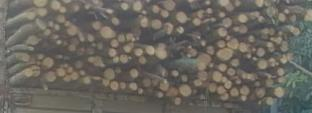medium: (197, 54, 210, 69), (218, 48, 231, 60), (163, 0, 176, 12), (154, 48, 166, 59), (165, 22, 174, 36), (151, 19, 162, 30), (100, 27, 111, 38), (178, 85, 189, 96), (128, 68, 139, 79), (226, 39, 237, 50), (42, 57, 52, 69), (176, 12, 186, 23), (103, 69, 113, 79), (44, 71, 54, 81), (131, 1, 141, 11), (281, 41, 289, 53), (34, 0, 47, 7), (221, 19, 231, 28), (66, 26, 76, 35), (49, 0, 58, 10), (35, 19, 44, 29), (240, 86, 249, 96), (166, 88, 176, 97), (27, 36, 37, 45), (256, 48, 265, 58), (207, 82, 215, 93), (257, 60, 266, 69), (229, 88, 238, 97), (217, 63, 226, 72), (198, 72, 207, 81), (56, 68, 65, 77), (92, 22, 101, 31), (92, 57, 101, 66), (110, 81, 118, 91), (160, 80, 168, 90), (30, 66, 38, 76), (218, 27, 226, 36), (212, 72, 220, 81), (145, 46, 153, 55), (119, 55, 127, 64), (274, 88, 282, 97), (237, 14, 246, 22), (238, 25, 247, 33), (237, 43, 246, 51), (216, 87, 225, 95), (21, 53, 29, 62), (36, 8, 45, 16), (267, 8, 275, 17), (207, 45, 215, 54), (140, 18, 147, 28), (219, 0, 230, 6), (192, 18, 200, 26), (23, 69, 31, 77), (226, 68, 234, 76), (232, 59, 240, 67), (110, 17, 118, 25), (152, 5, 160, 13), (256, 89, 264, 97), (265, 80, 273, 88), (277, 69, 285, 77), (82, 76, 90, 84), (85, 48, 93, 56), (143, 79, 150, 88), (120, 3, 129, 10), (69, 72, 76, 81), (128, 83, 136, 90), (117, 34, 124, 42), (134, 48, 141, 56), (108, 49, 115, 57), (217, 40, 224, 48), (278, 14, 285, 22), (86, 33, 93, 41), (55, 15, 63, 22), (25, 12, 33, 19), (255, 0, 263, 7), (225, 4, 232, 12), (224, 81, 231, 89), (138, 58, 145, 65), (110, 40, 117, 47), (160, 10, 167, 17), (68, 44, 75, 51), (221, 94, 228, 101), (57, 7, 65, 13), (123, 46, 129, 53), (75, 62, 81, 69), (266, 98, 272, 105), (193, 80, 200, 86), (189, 49, 195, 56), (248, 36, 254, 42)
small: (241, 97, 247, 103), (103, 80, 109, 86), (137, 90, 143, 95), (205, 8, 210, 14), (174, 98, 179, 104), (181, 75, 186, 81), (171, 71, 177, 76), (178, 27, 183, 33), (57, 39, 62, 44), (246, 54, 251, 59), (158, 93, 163, 98), (234, 27, 239, 32), (79, 70, 84, 75), (64, 77, 69, 82), (219, 12, 224, 17), (200, 41, 205, 46), (267, 42, 272, 47), (120, 83, 125, 88), (67, 68, 71, 73), (54, 26, 59, 30), (53, 35, 57, 40), (58, 54, 62, 59), (277, 78, 282, 82), (100, 65, 105, 69), (221, 77, 225, 82), (127, 34, 131, 39), (93, 76, 98, 80), (255, 81, 259, 85), (90, 43, 94, 47), (64, 22, 68, 26), (48, 23, 52, 27), (134, 36, 138, 40), (251, 57, 255, 61), (278, 31, 282, 35), (205, 0, 209, 4), (235, 1, 239, 5), (87, 58, 91, 62), (245, 75, 249, 79), (142, 11, 145, 15), (284, 10, 287, 14), (235, 80, 239, 83), (29, 47, 33, 50), (240, 75, 244, 78), (63, 64, 66, 67), (193, 91, 196, 94), (263, 30, 266, 33)
